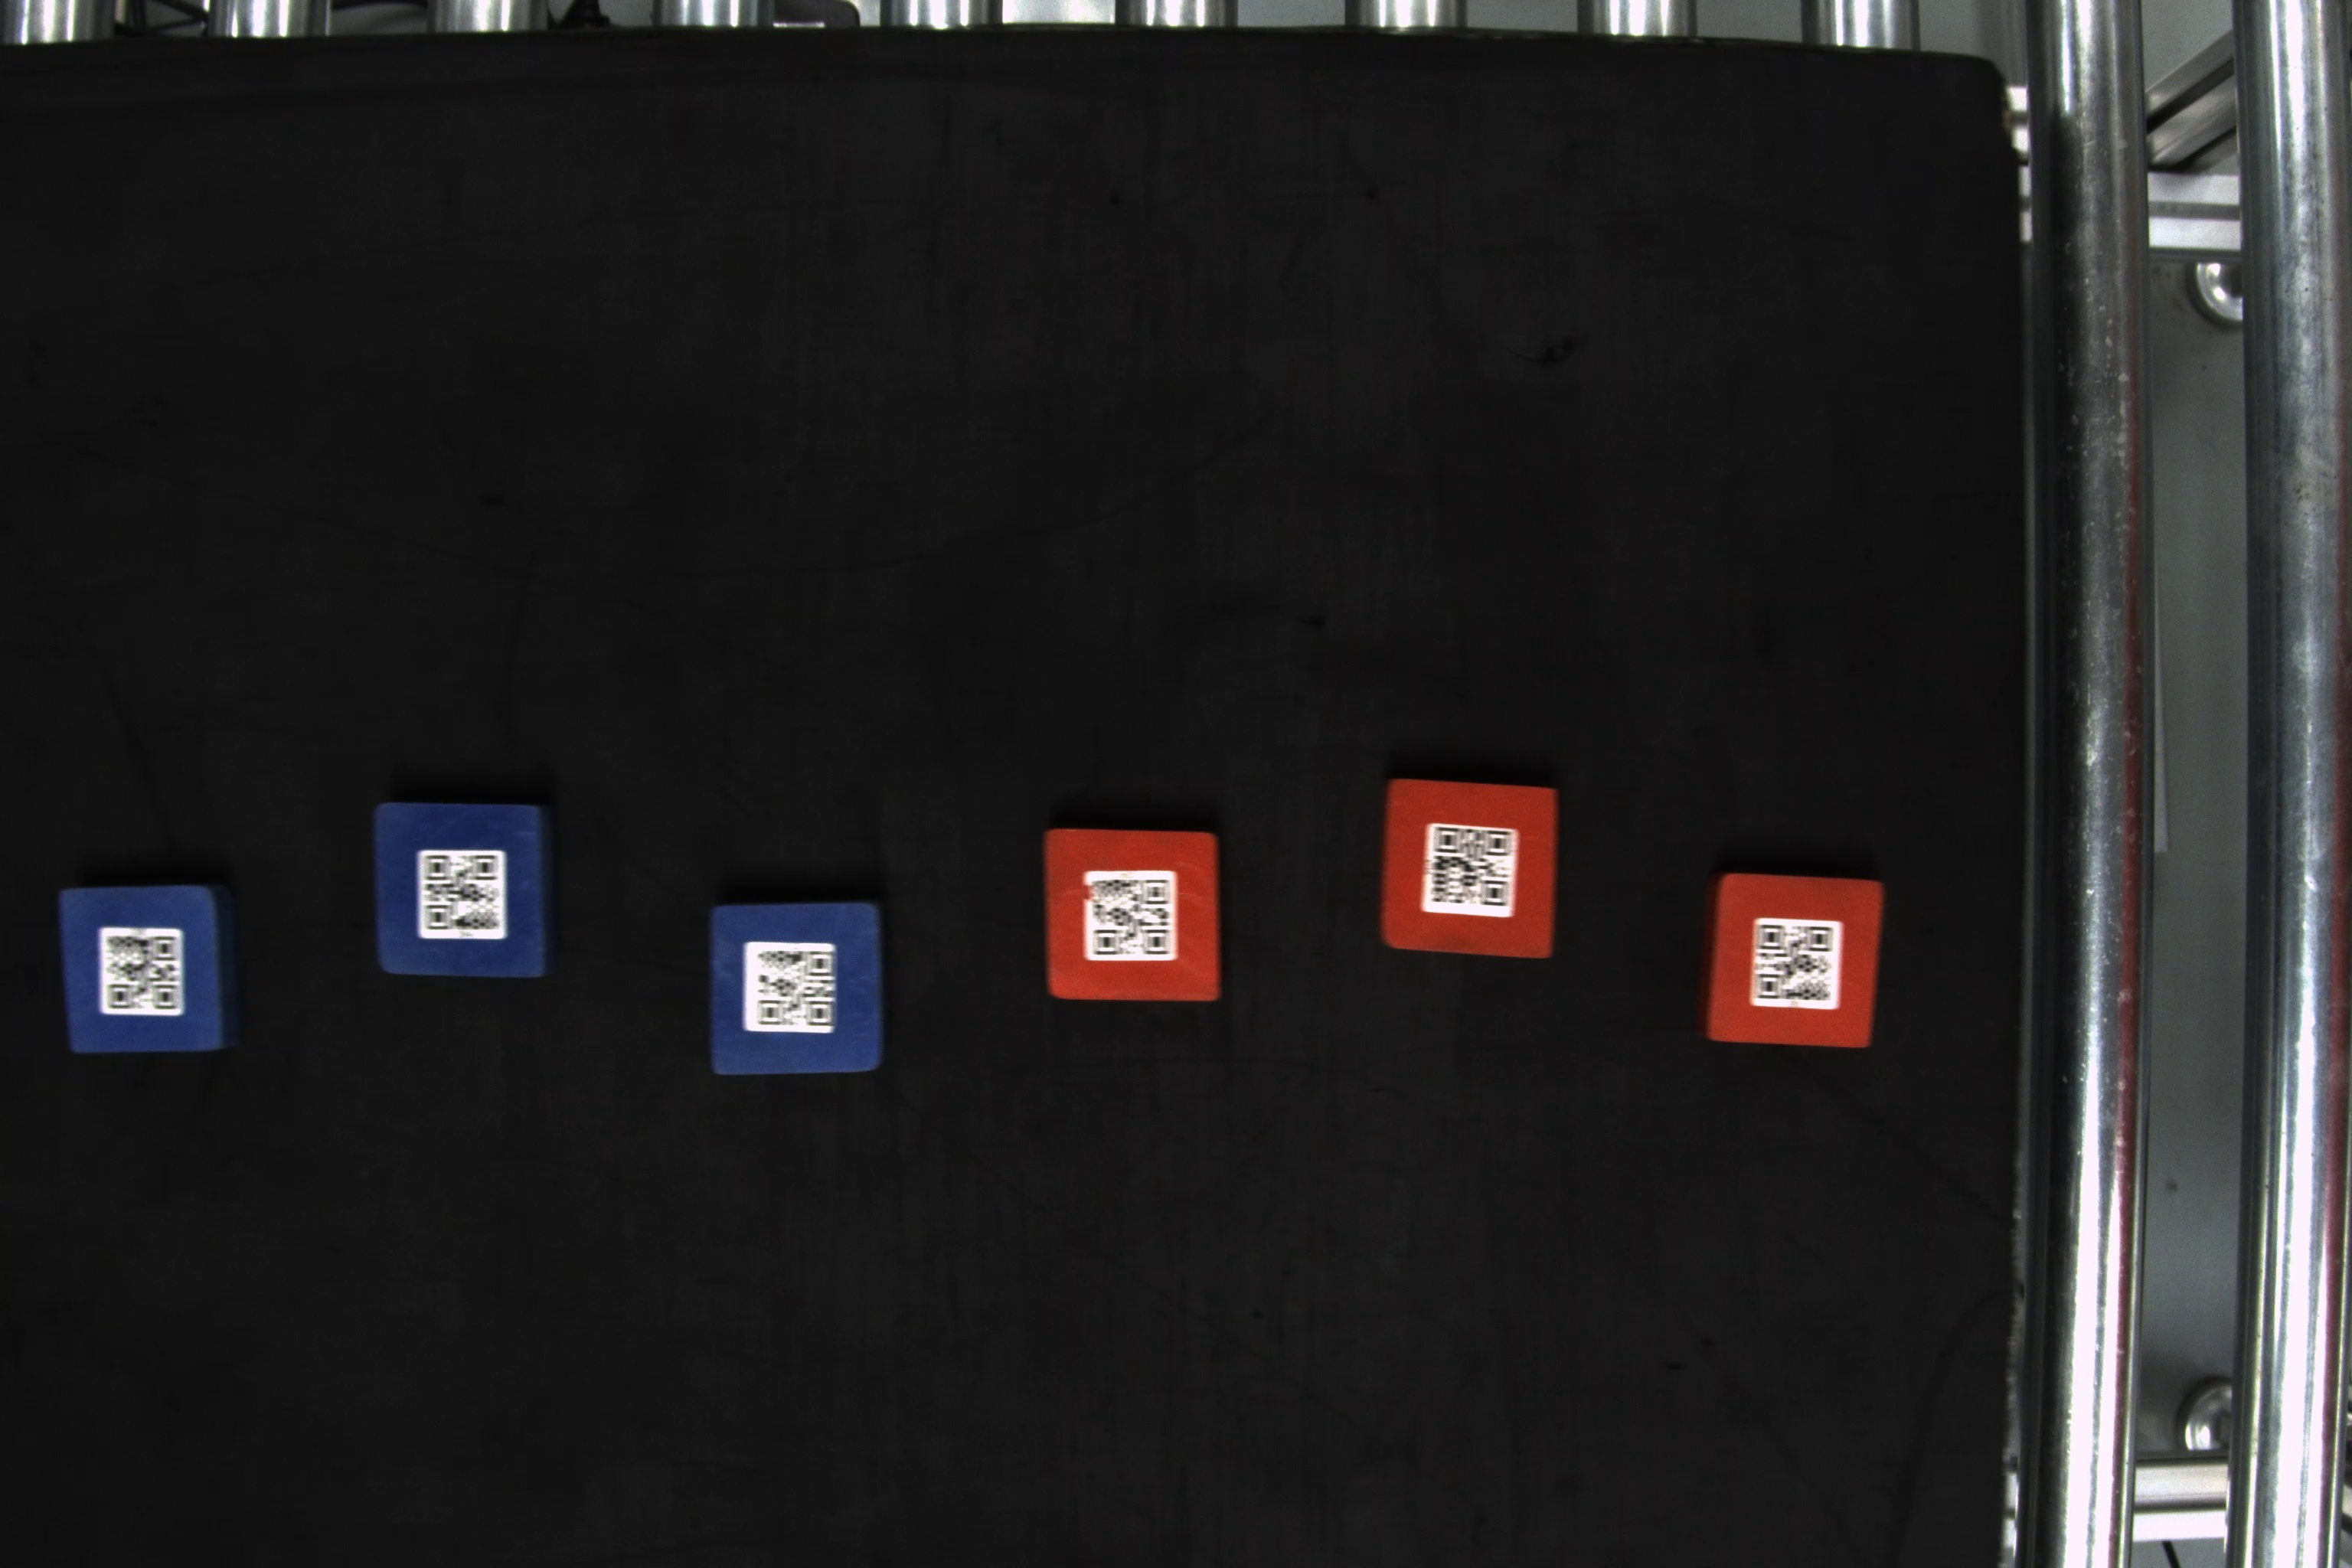wood: (1375, 772, 1563, 961), (1038, 826, 1235, 1004), (1701, 864, 1890, 1050), (52, 880, 247, 1057), (373, 796, 553, 983), (703, 901, 891, 1078)
